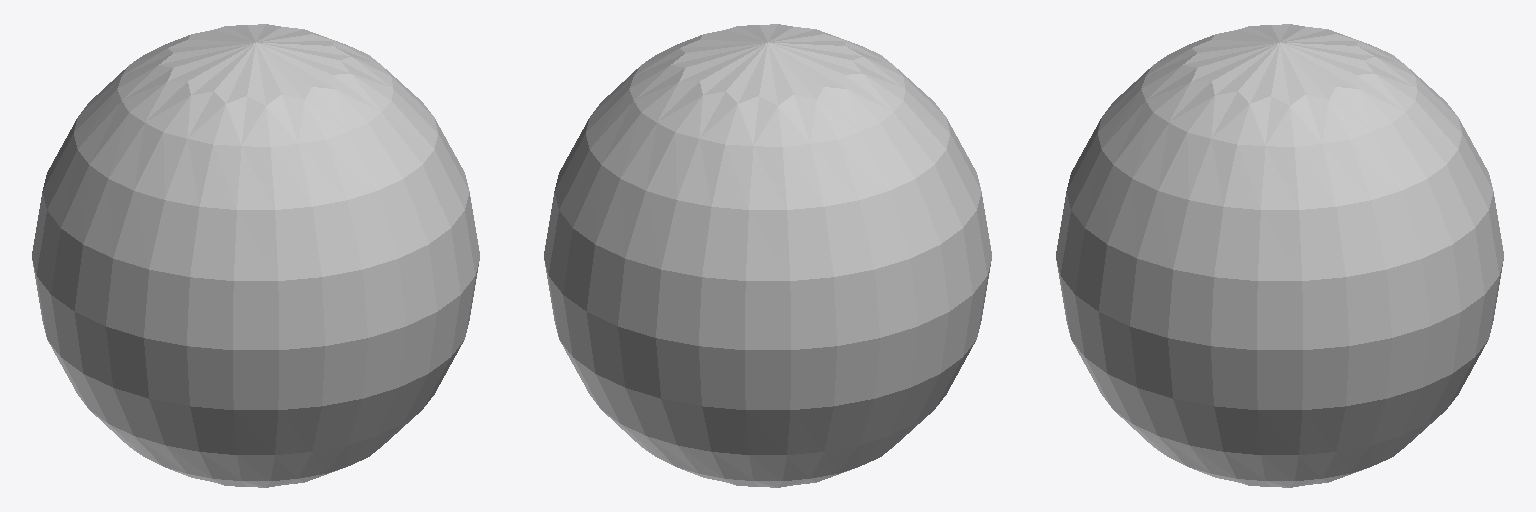
Rendered from vacuole.obj.
3 renders of one model, left to right at view 1: azimuth 30°, elevation 25°; view 2: azimuth 150°, elevation 25°; view 3: azimuth 270°, elevation 25°, orthographic.
Visible parts, largest first — view 1: Sphere_Sphere.003; view 2: Sphere_Sphere.003; view 3: Sphere_Sphere.003.
Boxes of the visible parts, x1,y1,x2,y2 form: Sphere_Sphere.003: [32, 24, 479, 487]; Sphere_Sphere.003: [544, 24, 991, 487]; Sphere_Sphere.003: [1056, 24, 1503, 487].
Bounding box in the file's own units: 18.83 × 19.87 × 18.93.